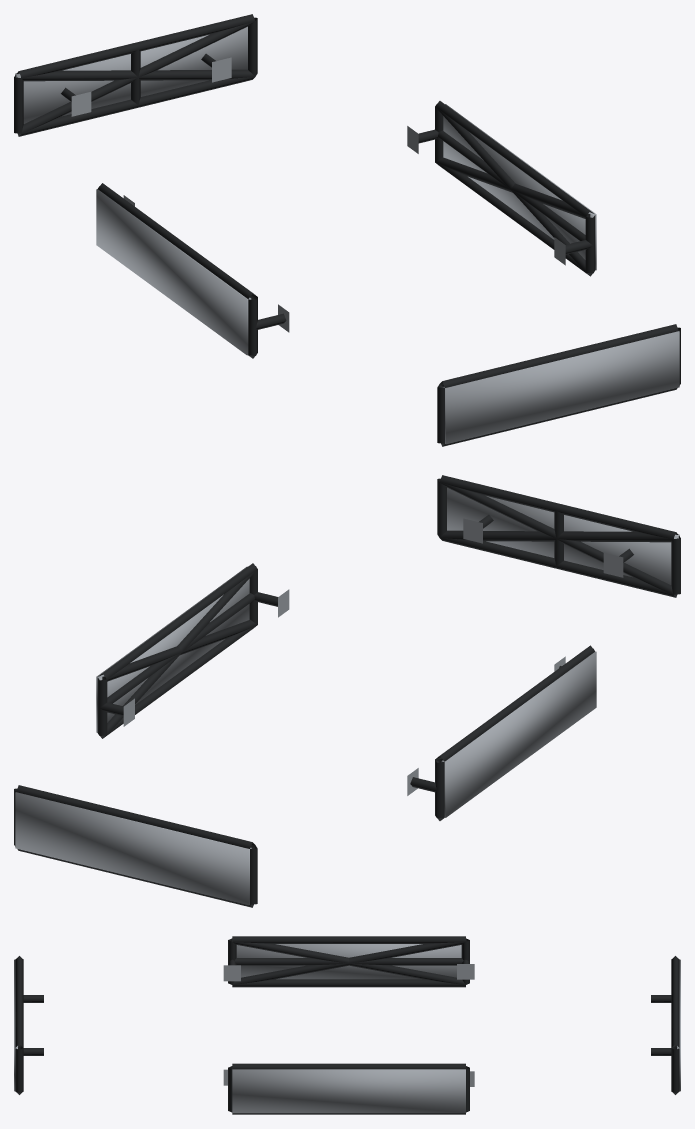
The model's file is hozuki_rastro_protecao.glb.
3 renders of one model, top to bottom at view 1: azimuth 30°, elevation 25°; view 2: azimuth 150°, elevation 25°; view 3: azimuth 270°, elevation 25°, orthographic. The views are drawn at different scales.
Parts seen in each view (by area): view 1: Protection_front_Level3_Details, Protection_left_Level3_Details, Protection_rear_Level1_Details, Protection_rear_Level3_Details, Protection_right_Level1_Details, Protection_rear_Level2_Details, Protection_right_Level2_Details, Protection_right_Level3_Details, Protection_front_Level1_Details, Protection_left_Level1_Details; view 2: Protection_rear_Level3_Details, Protection_left_Level3_Details, Protection_front_Level1_Details, Protection_front_Level3_Details, Protection_right_Level1_Details, Protection_front_Level2_Details, Protection_right_Level2_Details, Protection_right_Level3_Details, Protection_rear_Level1_Details, Protection_left_Level1_Details; view 3: Protection_right_Level3_Details, Protection_left_Level1_Details, Protection_left_Level2_Details, Protection_left_Level3_Details, Protection_right_Level1_Details, Protection_rear_Level1_Details, Protection_front_Level1_Details.
Part boxes in pixels (<box>): Protection_front_Level3_Details: <box>443,331,679,444</box>; Protection_left_Level3_Details: <box>96,189,251,355</box>; Protection_rear_Level1_Details: <box>14,14,257,136</box>; Protection_rear_Level3_Details: <box>15,26,247,123</box>; Protection_right_Level1_Details: <box>407,101,595,276</box>; Protection_rear_Level2_Details: <box>16,21,254,135</box>; Protection_right_Level2_Details: <box>435,107,593,275</box>; Protection_right_Level3_Details: <box>443,104,596,270</box>; Protection_front_Level1_Details: <box>437,324,680,446</box>; Protection_left_Level1_Details: <box>98,183,289,358</box>; Protection_rear_Level3_Details: <box>15,792,251,905</box>; Protection_left_Level3_Details: <box>441,651,596,817</box>; Protection_front_Level1_Details: <box>437,475,680,597</box>; Protection_front_Level3_Details: <box>447,487,679,584</box>; Protection_right_Level1_Details: <box>97,563,289,738</box>; Protection_front_Level2_Details: <box>440,482,678,596</box>; Protection_right_Level2_Details: <box>98,570,257,738</box>; Protection_right_Level3_Details: <box>96,566,249,732</box>; Protection_rear_Level1_Details: <box>14,785,257,907</box>; Protection_left_Level1_Details: <box>407,645,594,820</box>; Protection_right_Level3_Details: <box>232,1069,465,1113</box>; Protection_left_Level1_Details: <box>223,936,474,987</box>; Protection_left_Level2_Details: <box>232,939,466,984</box>; Protection_left_Level3_Details: <box>236,944,461,979</box>; Protection_right_Level1_Details: <box>223,1063,474,1114</box>; Protection_rear_Level1_Details: <box>651,956,679,1094</box>; Protection_front_Level1_Details: <box>15,956,43,1094</box>.
Bounding box in the file's own units: 1.97 × 0.354 × 4.2.
Materials: 1 (1 with a texture image).
